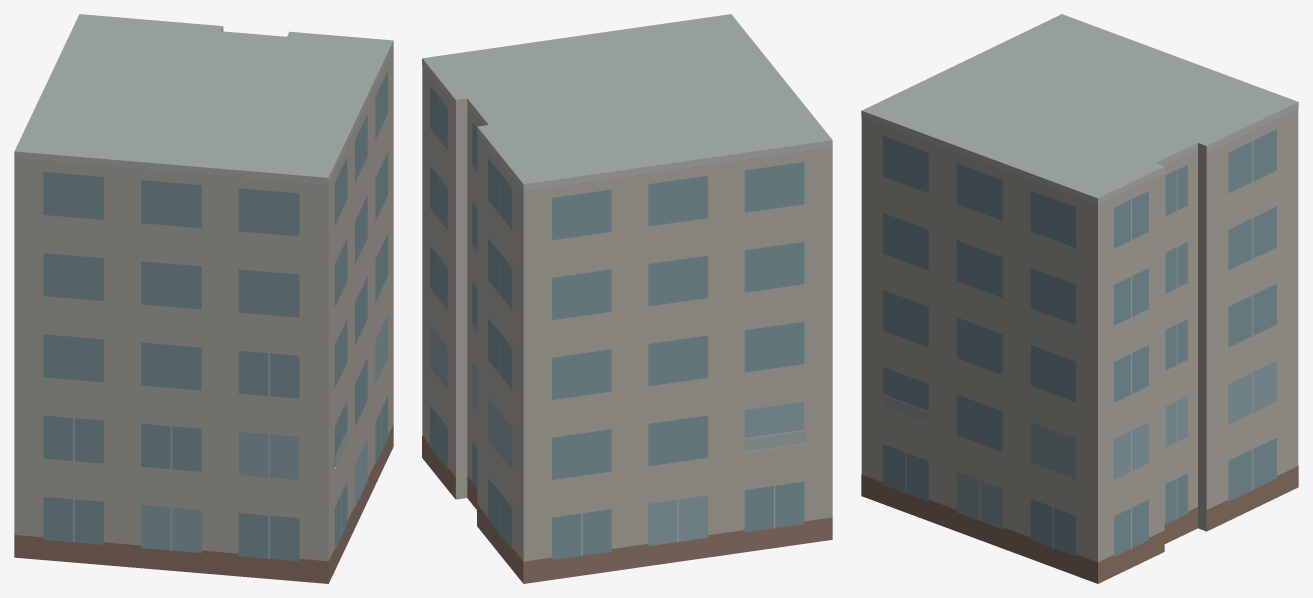
The model's file is survey-upis-32670181.glb.
3 views of the same model, side by side, from view 1: azimuth 30°, elevation 25°; view 2: azimuth 150°, elevation 25°; view 3: azimuth 270°, elevation 25° (orthographic). The views are drawn at different scales.
Parts seen in each view (by area): view 1: survey-upis-32670181.tmp; view 2: survey-upis-32670181.tmp; view 3: survey-upis-32670181.tmp.
Part boxes in pixels (x1,y1,x2,y2): survey-upis-32670181.tmp: (14,14,393,583); survey-upis-32670181.tmp: (422,14,832,583); survey-upis-32670181.tmp: (861,14,1298,583).
Bounding box in the file's own units: 14.94 × 14.55 × 14.95.
